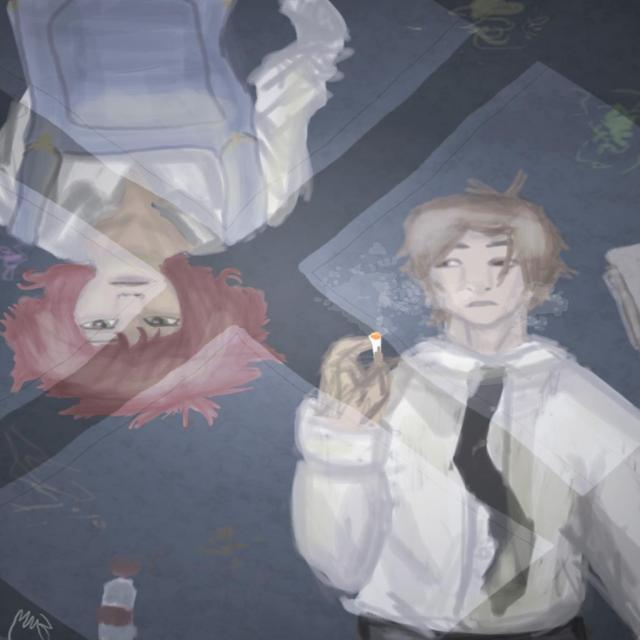smoking: (338, 184, 570, 390)
